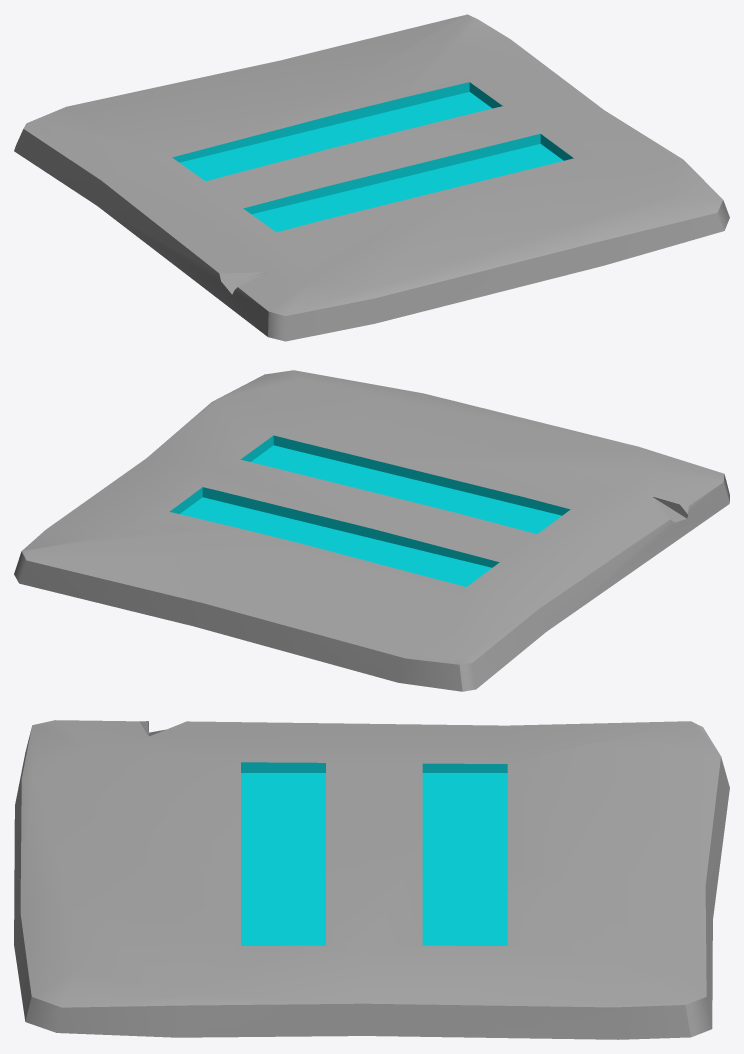
File: dalle10.fbx
3 views of the same model, one above another, from view 1: azimuth 30°, elevation 25°; view 2: azimuth 150°, elevation 25°; view 3: azimuth 270°, elevation 25° (orthographic). The views are drawn at different scales.
Visible parts, largest first — view 1: pCube5; view 2: pCube5; view 3: pCube5.
Boxes of the visible parts, x1,y1,x2,y2 form: pCube5: [14, 14, 729, 341]; pCube5: [14, 370, 729, 691]; pCube5: [14, 720, 729, 1039].
Size of the model in its own units: 6.99 by 0.4395 by 7.18.
